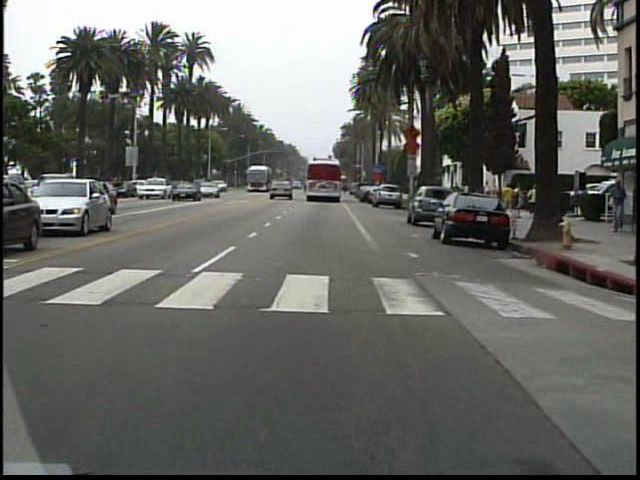person: (602, 176, 627, 239)
